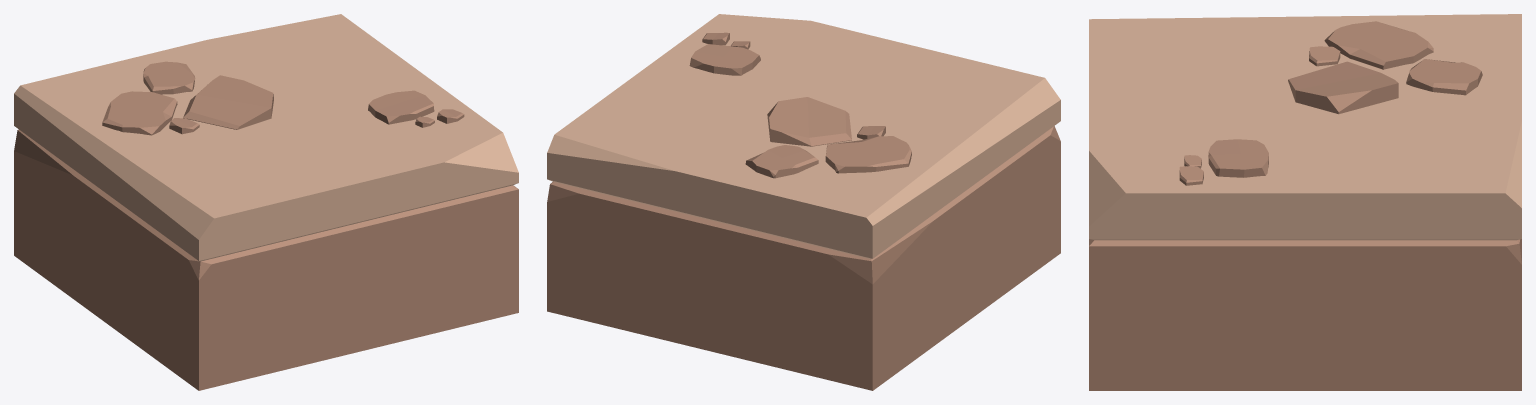
Rendered from Path_rocks.gltf.
3 renders of one model, left to right at view 1: azimuth 30°, elevation 25°; view 2: azimuth 150°, elevation 25°; view 3: azimuth 270°, elevation 25°, orthographic. The views are drawn at different scales.
Visible parts, largest first — view 1: Level cube, Level cube.006, Cube.006, Cube.004, Cube.008, Cube.007; view 2: Level cube, Level cube.006, Cube.006, Cube.004, Cube.008, Cube.007; view 3: Level cube, Level cube.006, Cube.006, Cube.004, Cube.008, Cube.007, Cube.005, Cube.009.
Boxes of the visible parts, bbox=[...] form: Level cube: bbox=[14, 14, 518, 261]; Level cube.006: bbox=[14, 129, 518, 390]; Cube.006: bbox=[183, 75, 273, 129]; Cube.004: bbox=[102, 91, 177, 135]; Cube.008: bbox=[368, 90, 434, 124]; Cube.007: bbox=[143, 61, 195, 94]; Level cube: bbox=[547, 14, 1060, 259]; Level cube.006: bbox=[547, 126, 1060, 390]; Cube.006: bbox=[767, 97, 851, 146]; Cube.004: bbox=[825, 136, 911, 173]; Cube.008: bbox=[689, 44, 760, 75]; Cube.007: bbox=[745, 145, 818, 178]; Level cube: bbox=[1089, 14, 1521, 240]; Level cube.006: bbox=[1089, 239, 1521, 390]; Cube.006: bbox=[1288, 61, 1398, 114]; Cube.004: bbox=[1324, 21, 1433, 69]; Cube.008: bbox=[1208, 139, 1268, 177]; Cube.007: bbox=[1406, 59, 1482, 95]; Cube.005: bbox=[1309, 46, 1340, 66]; Cube.009: bbox=[1179, 166, 1203, 185].
Size of the model in its own units: 3.97 by 2.15 by 3.97.
